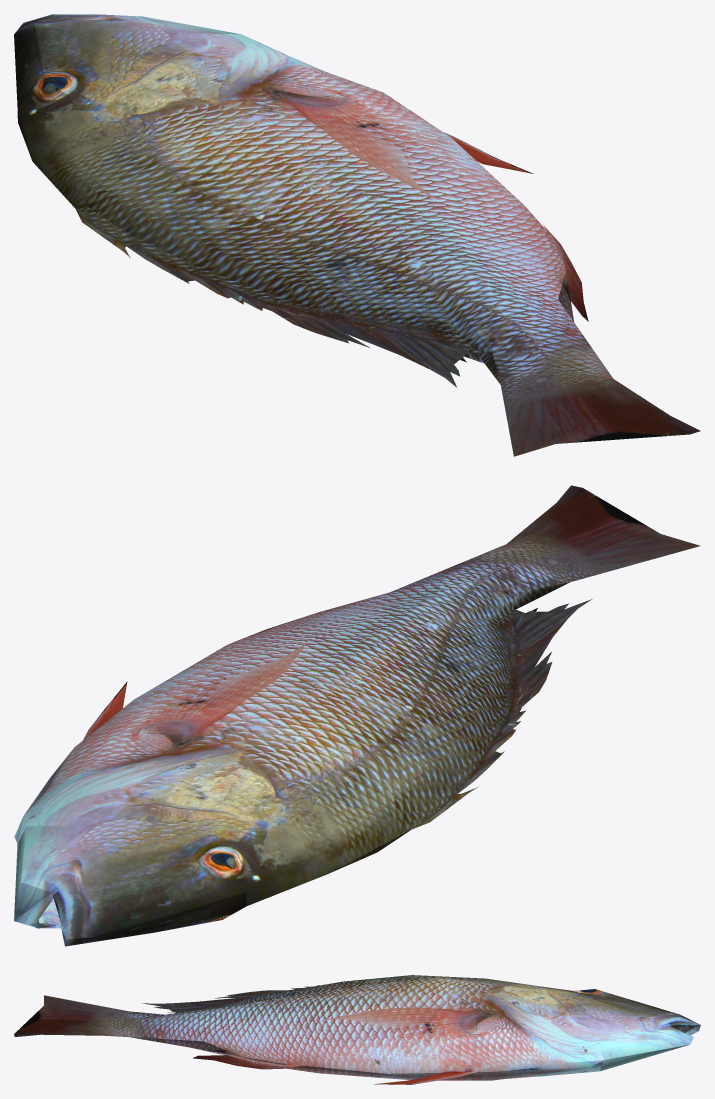
File: FISH.fbx
The picture shows the model from 3 angles, top to bottom: view 1: azimuth 30°, elevation 25°; view 2: azimuth 150°, elevation 25°; view 3: azimuth 270°, elevation 25°; orthographic projection. The views are drawn at different scales.
Parts seen in each view (by area): view 1: fish; view 2: fish; view 3: fish.
Boxes of the visible parts, x1,y1,x2,y2 form: fish: (14, 14, 700, 456); fish: (14, 485, 700, 946); fish: (14, 975, 700, 1084).
Bounding box in the file's own units: 10 × 2.79 × 27.09.
1 material, 1 textured.
